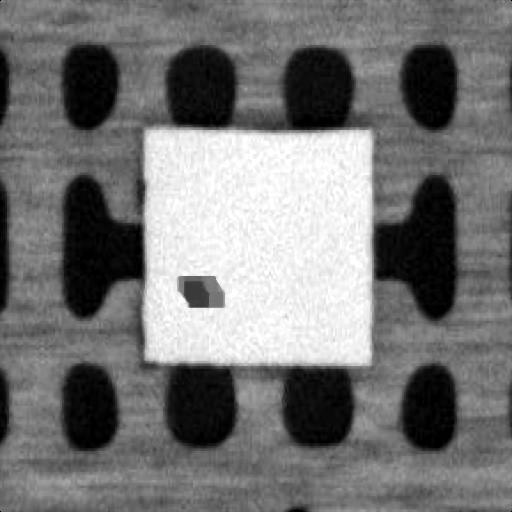DIE_INK: (170, 265, 222, 305)
